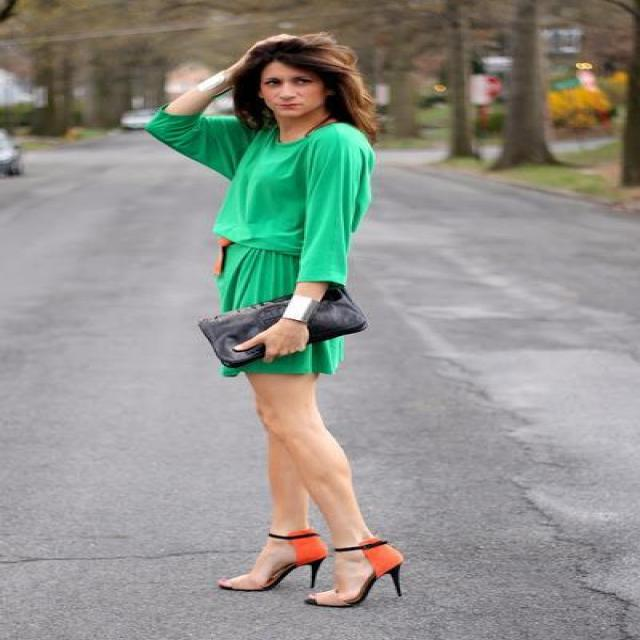bag: (198, 280, 365, 360)
dress: (134, 108, 373, 376)
shoe: (250, 530, 400, 608)
